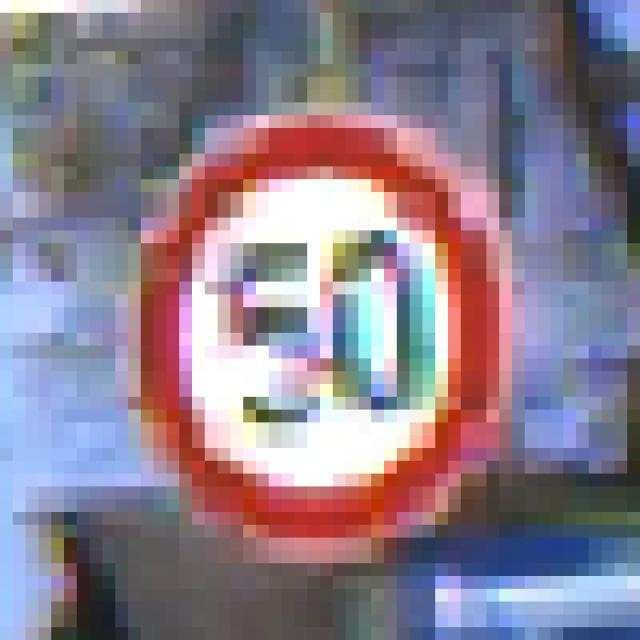Limite-50: (132, 109, 516, 567)
